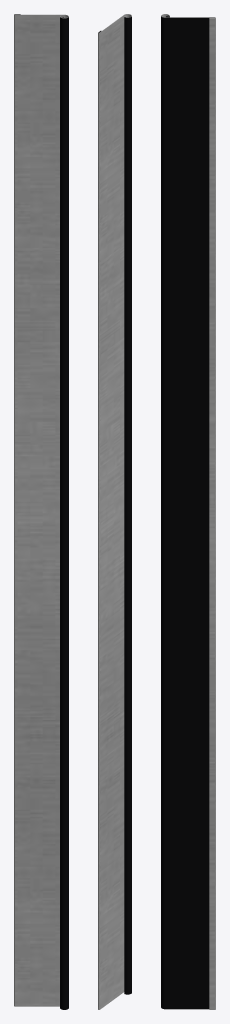
File: bande à doublis à pince.gltf
3 renders of one model, left to right at view 1: azimuth 90°, elevation 25°; view 2: azimuth 150°, elevation 25°; view 3: azimuth 270°, elevation 25°, orthographic.
Visible parts, largest first — view 1: bande de doublis à pince; view 2: bande de doublis à pince; view 3: bande de doublis à pince.
Boxes of the visible parts, x1,y1,x2,y2 form: bande de doublis à pince: [14, 14, 68, 1009]; bande de doublis à pince: [98, 14, 131, 1009]; bande de doublis à pince: [161, 14, 215, 1009].
Size of the model in its own units: 0.019 by 2 by 0.1001.
2 materials, 1 textured.
